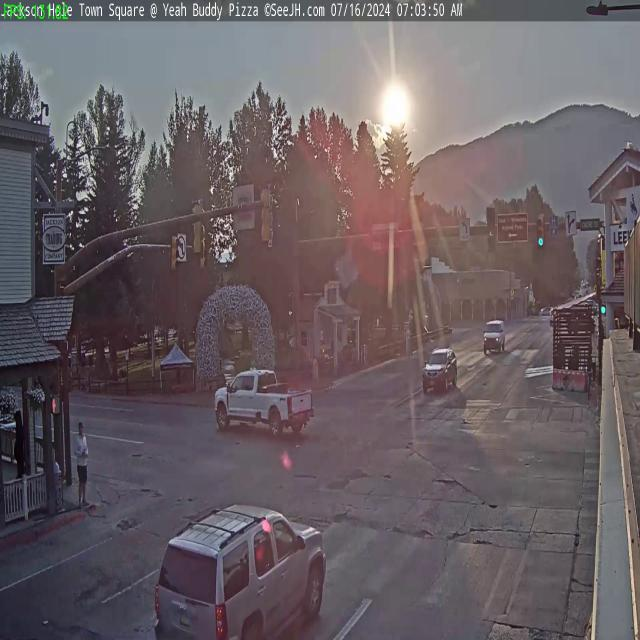person: (76, 421, 89, 510)
pickup: (214, 365, 315, 436)
suv: (152, 498, 326, 640), (421, 344, 456, 397)
traffic light: (258, 184, 273, 243), (192, 201, 203, 252), (536, 214, 546, 252), (486, 208, 494, 250), (171, 238, 179, 272), (200, 238, 208, 270)
van: (483, 318, 505, 354)
